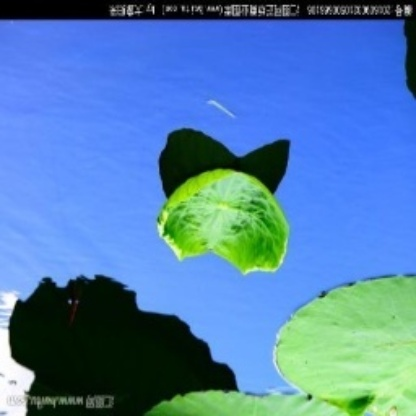leaf: (158, 161, 295, 276)
